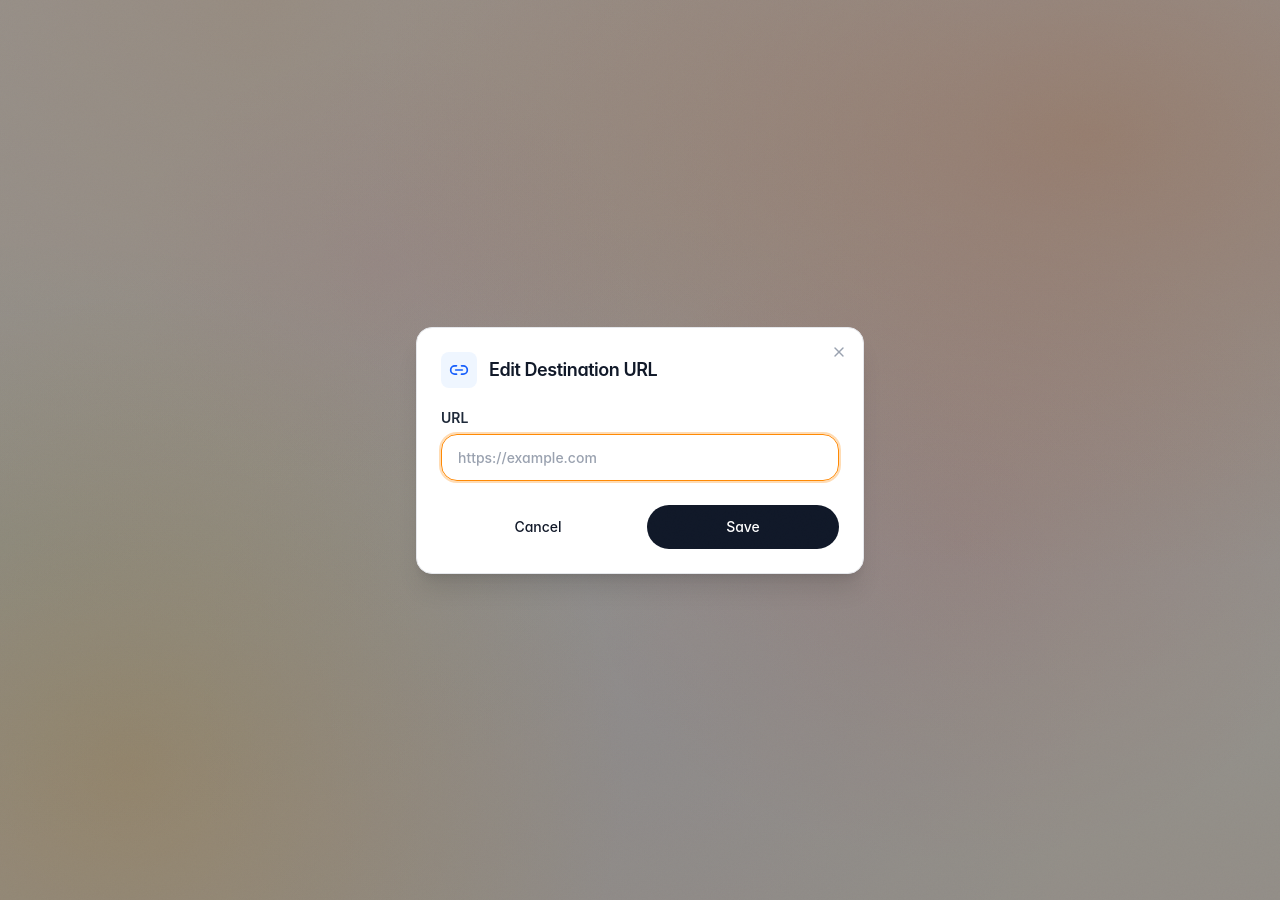
Test: EditUrlModal › interactions › shows error for invalid URL on url type
Step 1. Type "not-a-url" into the field labelled "URL" → point(640, 457), box left=441, top=434, right=839, bottom=480
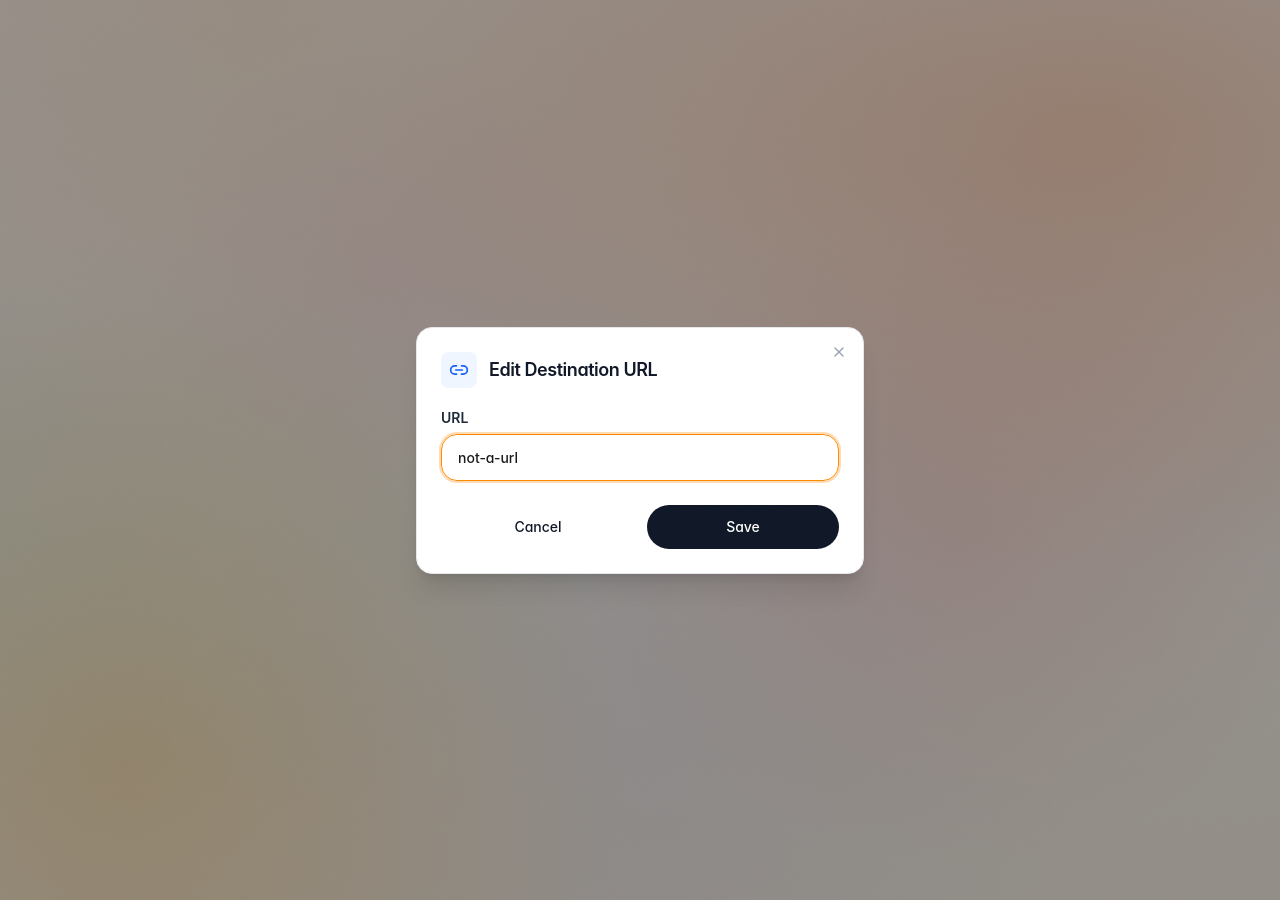
Step 2. Click the button "Save" → point(743, 526), box left=647, top=504, right=839, bottom=548
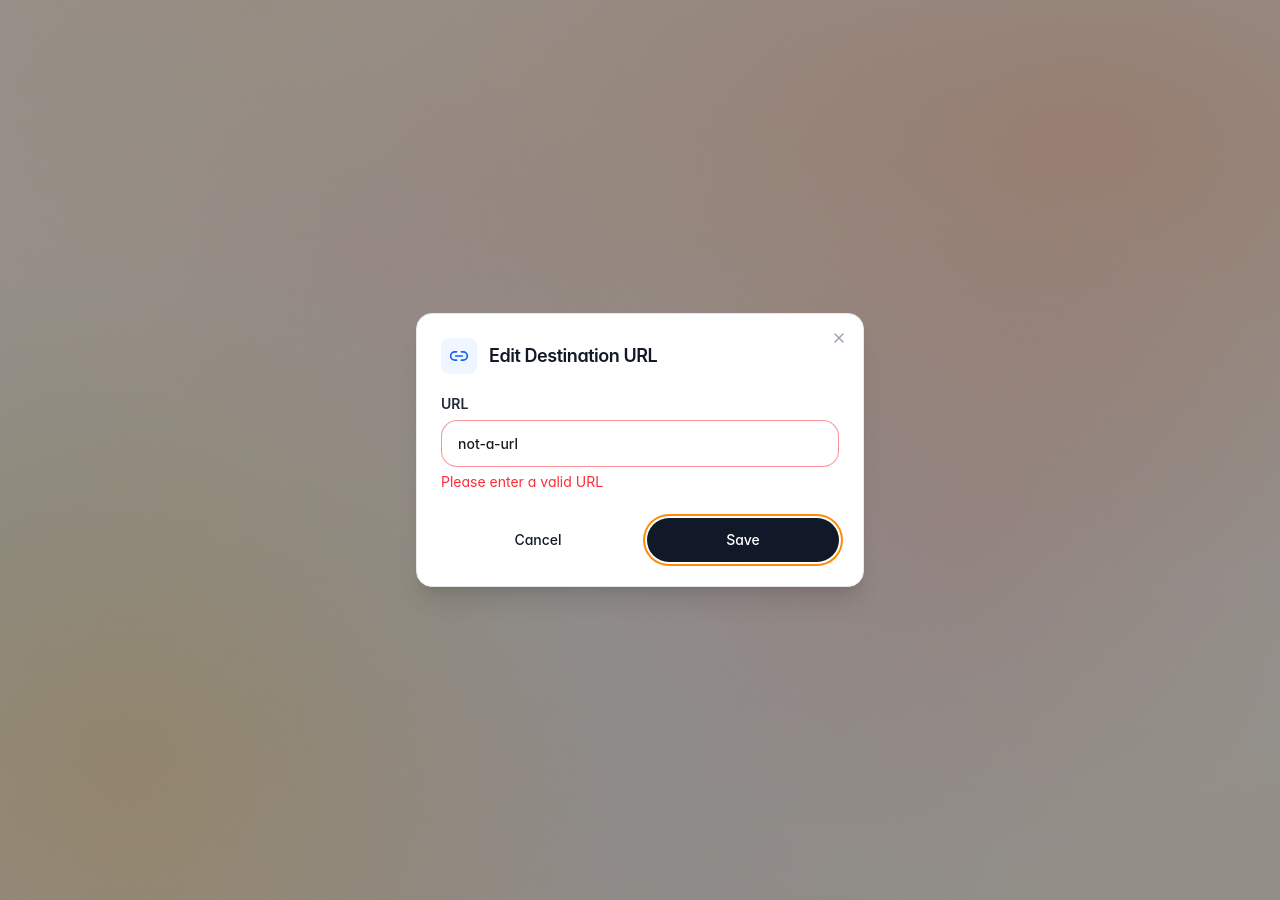
Expected: the text "Please enter a valid URL" is shown, left=441, top=473, right=603, bottom=490
